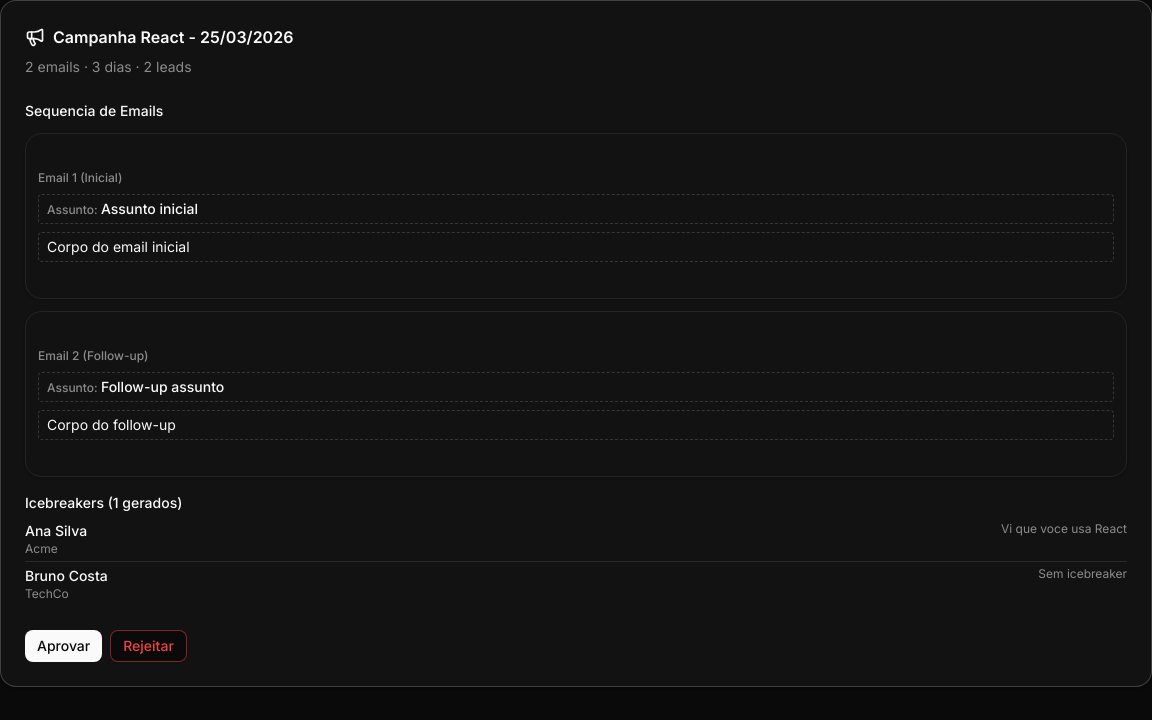
Test: AgentCampaignPreview (AC: #1, #2, #3) › opens input when clicking on subject text
Click the element with test id "email-subject-0" at {"x": 576, "y": 209}, box [38, 194, 1114, 224]
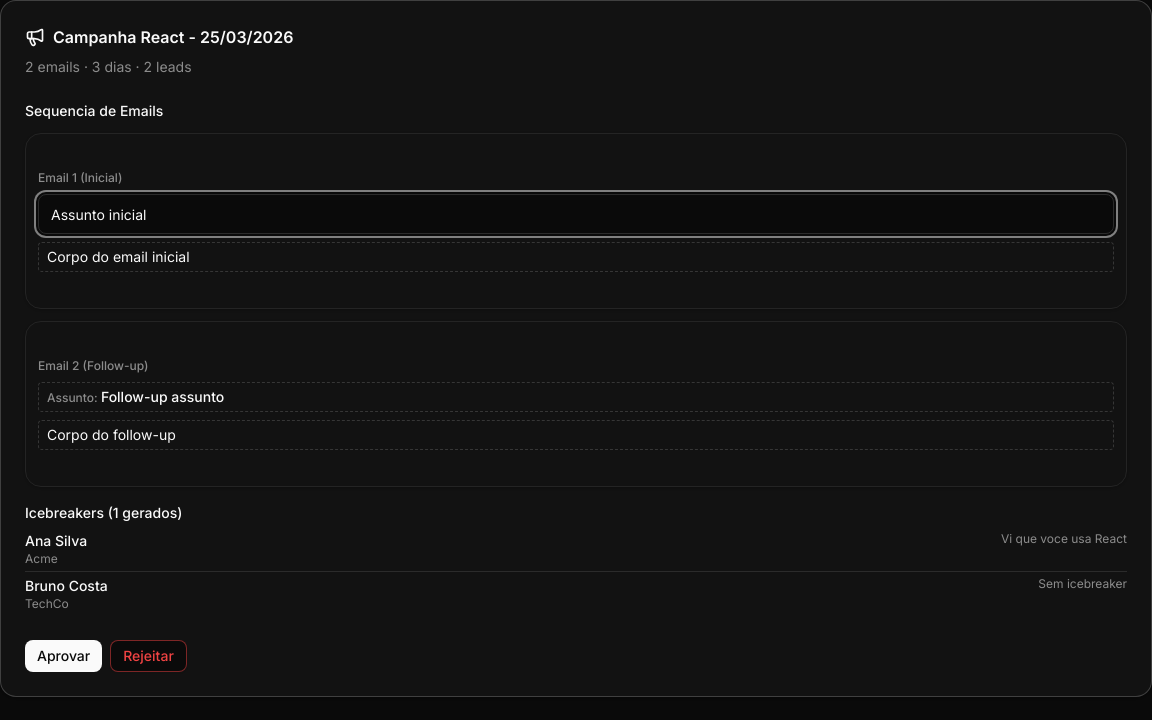
expect the field with test id "email-subject-input-0" is shown: met, box [38, 194, 1114, 234]
